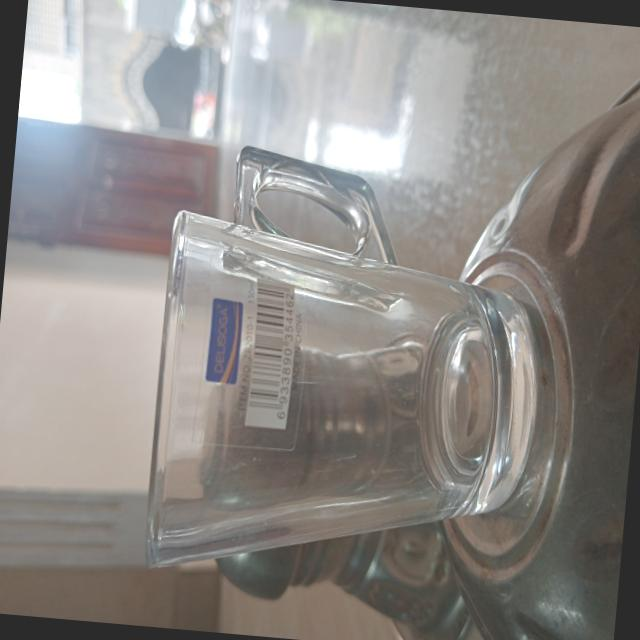glass-VX4N: (138, 142, 576, 605)
